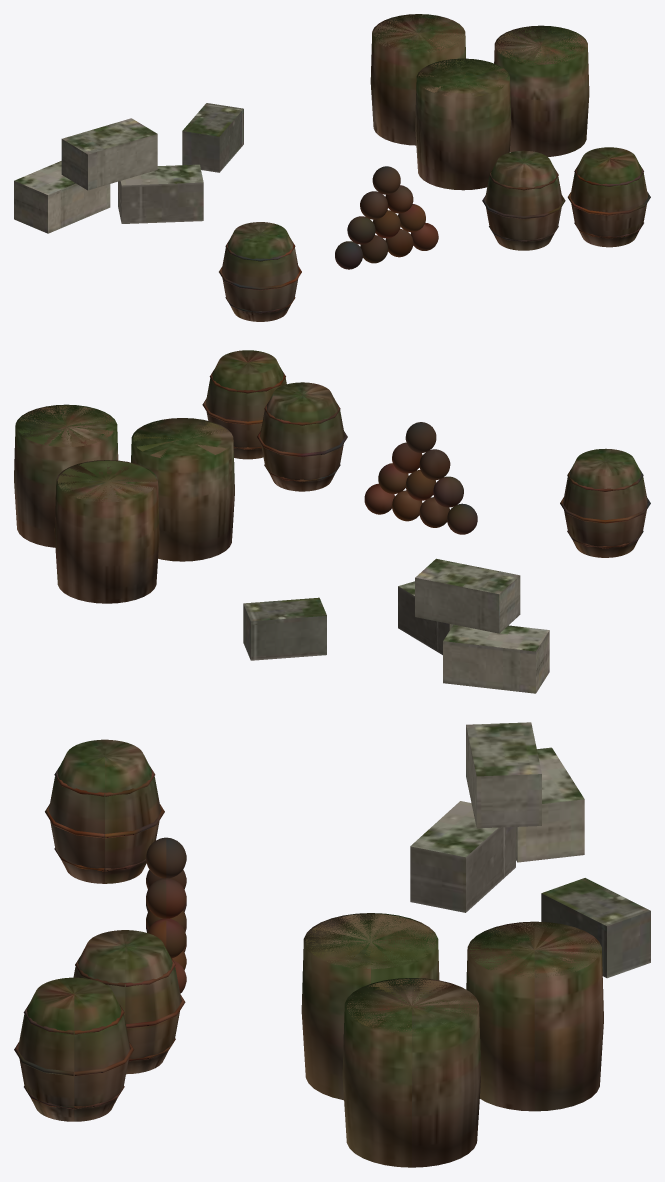
Rendered from starfort_loose_props_hero.glb.
3 renders of one model, top to bottom at view 1: azimuth 30°, elevation 25°; view 2: azimuth 150°, elevation 25°; view 3: azimuth 270°, elevation 25°, orthographic. The views are drawn at different scales.
Parts seen in each view (by area): view 1: gabion_03, gabion_02, gabion_01, barrel_02, barrel_01, barrel_03, cannonballs, stone_block_03, stone_block_02, stone_block_01, stone_block_04; view 2: gabion_01, gabion_03, gabion_02, barrel_01, barrel_03, cannonballs, stone_block_01, stone_block_03, barrel_02, stone_block_04, stone_block_02; view 3: gabion_02, gabion_01, barrel_02, barrel_03, gabion_03, barrel_01, stone_block_02, stone_block_03, stone_block_04, stone_block_01, cannonballs.
Boxes of the visible parts, box(x1,y1,x2,y2) form: gabion_03: box(415, 58, 511, 190); gabion_02: box(494, 25, 589, 156); gabion_01: box(370, 14, 465, 145); barrel_02: box(567, 147, 650, 247); barrel_01: box(482, 150, 565, 250); barrel_03: box(219, 222, 301, 321); cannonballs: box(335, 166, 438, 269); stone_block_03: box(61, 118, 157, 190); stone_block_02: box(118, 164, 203, 223); stone_block_01: box(14, 161, 110, 233); stone_block_04: box(182, 103, 243, 172); gabion_01: box(54, 460, 159, 603); gabion_03: box(131, 418, 234, 561); gabion_02: box(14, 404, 118, 547); barrel_01: box(257, 382, 347, 491); barrel_03: box(560, 448, 650, 557); cannonballs: box(364, 422, 477, 534); stone_block_01: box(443, 624, 549, 693); stone_block_03: box(415, 558, 520, 633); barrel_02: box(202, 350, 286, 459); stone_block_04: box(243, 597, 326, 660); stone_block_02: box(398, 581, 452, 654); gabion_02: box(342, 978, 480, 1167); gabion_01: box(466, 921, 603, 1111); barrel_02: box(14, 977, 134, 1121); barrel_03: box(45, 739, 164, 883); gabion_03: box(301, 913, 439, 1100); barrel_01: box(73, 930, 185, 1074); stone_block_02: box(410, 801, 515, 912); stone_block_03: box(466, 722, 541, 828); stone_block_04: box(541, 878, 650, 978); stone_block_01: box(516, 747, 584, 862); cannonballs: box(146, 837, 186, 993).
Size of what is drawn, in the model's own units: 4.23 by 0.72 by 3.11.
Materials: 1 (1 with a texture image).
